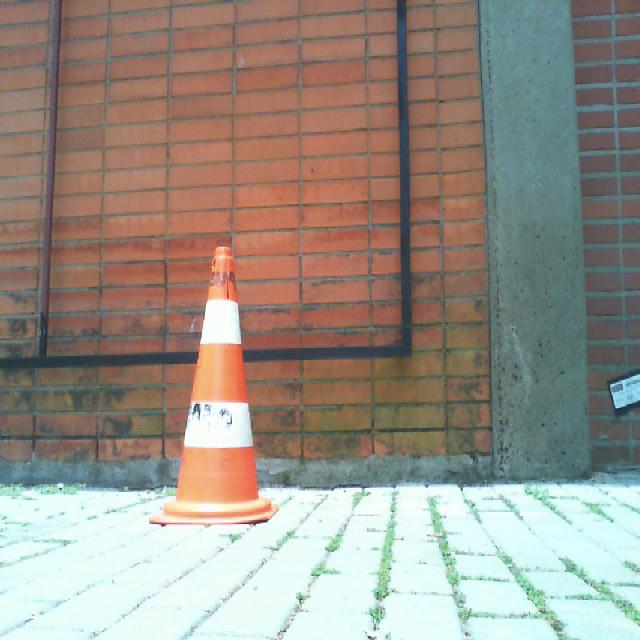cone: (147, 247, 280, 525)
